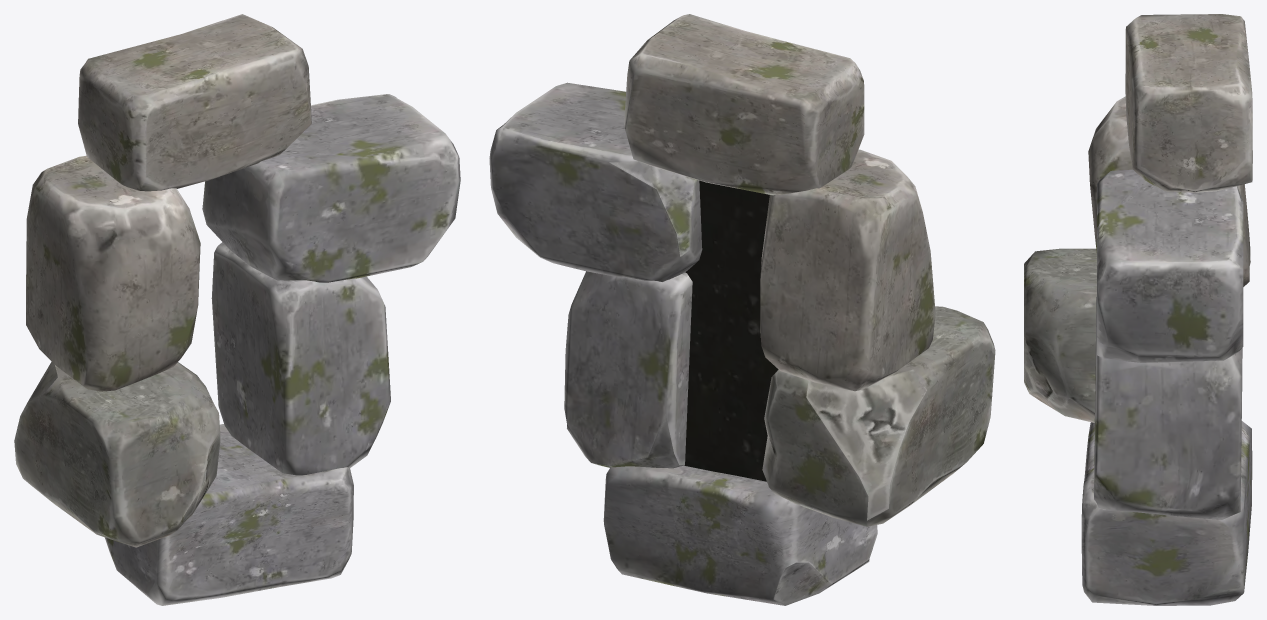
3 views of the same model, side by side, from view 1: azimuth 30°, elevation 25°; view 2: azimuth 150°, elevation 25°; view 3: azimuth 270°, elevation 25° (orthographic). The views are drawn at different scales.
Parts seen in each view (by area): view 1: SM_Castle_Window_01v1_LOD0; view 2: SM_Castle_Window_01v1_LOD0; view 3: SM_Castle_Window_01v1_LOD0.
Boxes of the visible parts, x1,y1,x2,y2 form: SM_Castle_Window_01v1_LOD0: [14, 14, 460, 605]; SM_Castle_Window_01v1_LOD0: [489, 14, 995, 605]; SM_Castle_Window_01v1_LOD0: [1024, 14, 1252, 605].
Bounding box in the file's own units: 1.29 × 1.62 × 0.6612.
Materials: 2 (2 with a texture image).
